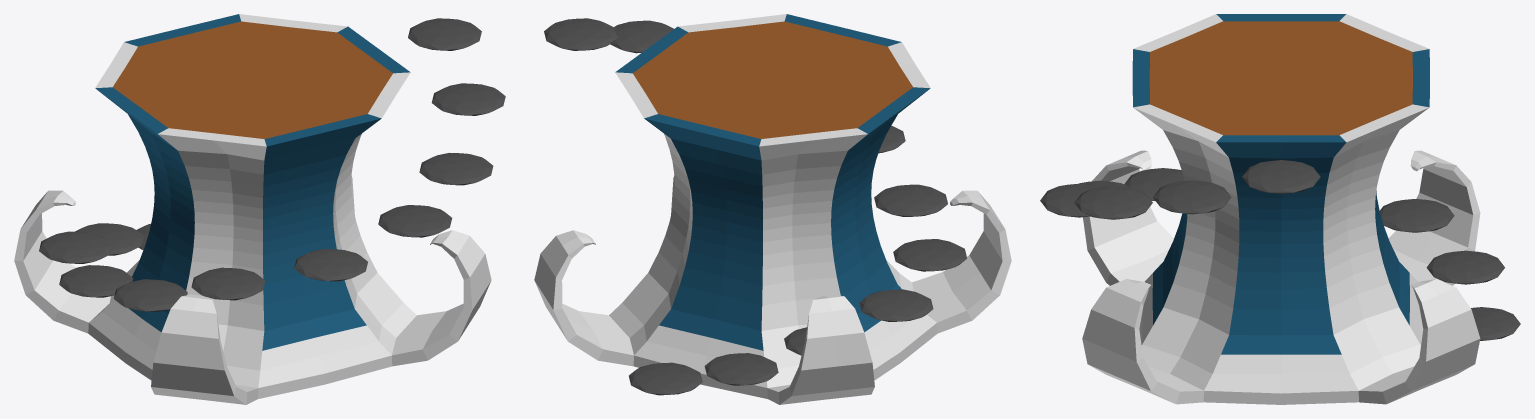
Rendered from MageTowerLvl1.fbx.
3 renders of one model, left to right at view 1: azimuth 30°, elevation 25°; view 2: azimuth 150°, elevation 25°; view 3: azimuth 270°, elevation 25°, orthographic. The views are drawn at different scales.
Visible parts, largest first — view 1: MageTowerLvl1; view 2: MageTowerLvl1; view 3: MageTowerLvl1.
Part boxes in pixels (x1,y1,x2,y2): MageTowerLvl1: (14, 14, 505, 404); MageTowerLvl1: (534, 14, 1011, 404); MageTowerLvl1: (1040, 14, 1520, 404).
Size of the model in its own units: 309 by 192 by 313.
